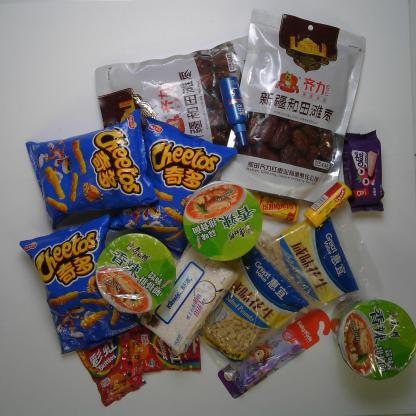Candy: (73, 318, 147, 407), (128, 322, 202, 374), (304, 181, 352, 227), (249, 189, 299, 225)
Dessert: (341, 129, 388, 215)
Dried Food: (220, 6, 366, 205), (93, 32, 289, 175)
Dried Fruit: (181, 232, 310, 368), (228, 207, 370, 319)
Instant Noodles: (331, 297, 416, 381), (95, 233, 176, 314), (184, 181, 262, 262)
Personal Hygiene: (218, 308, 330, 399), (220, 77, 250, 149)
Puffed Food: (102, 116, 238, 258), (20, 214, 138, 357), (24, 109, 157, 226)
Tissue: (139, 241, 240, 354)
